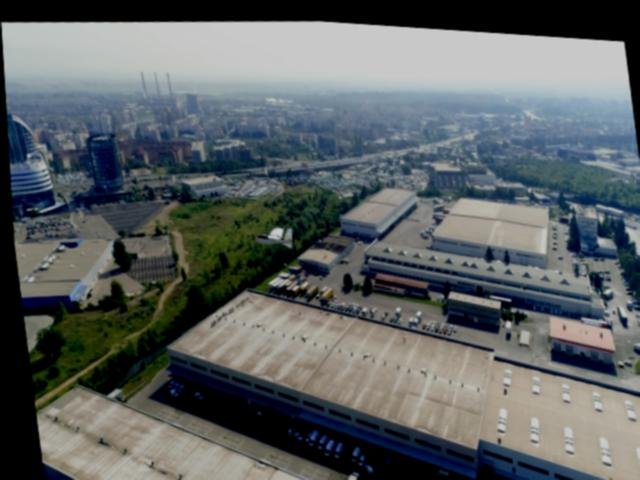plane: (252, 219, 292, 248)
